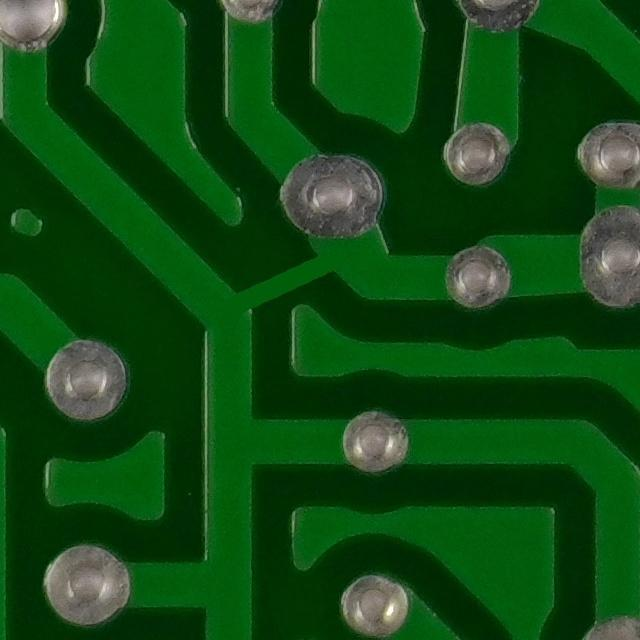short: (165, 192, 407, 346)
